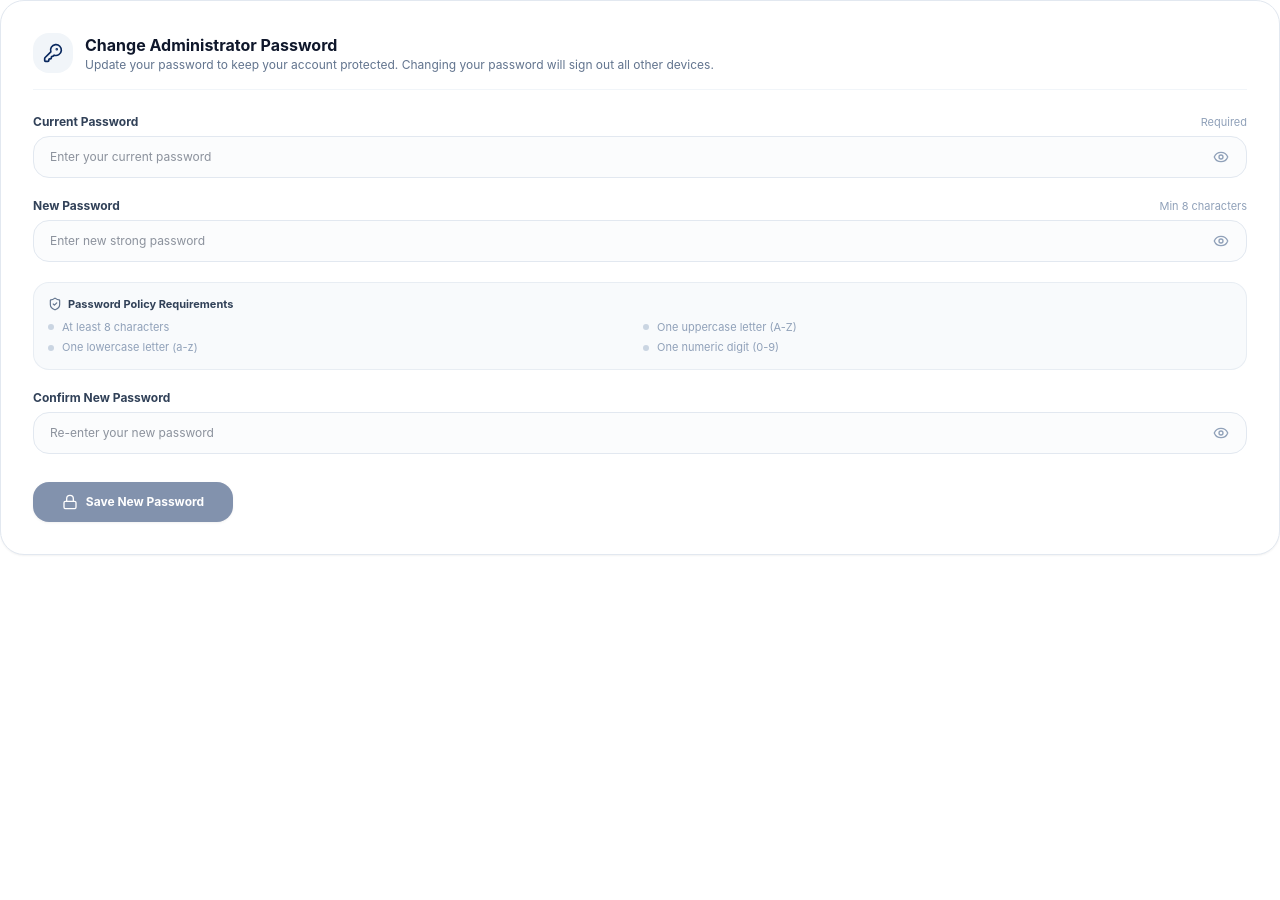
it: ChangePasswordForm Component › handles 401 session expiration error and triggers redirect
This screenshot has width=1280, height=900.
Type "OldPass123!" into the password field with placeholder "Enter your current password" at (640, 157), box [33,136,1247,178]
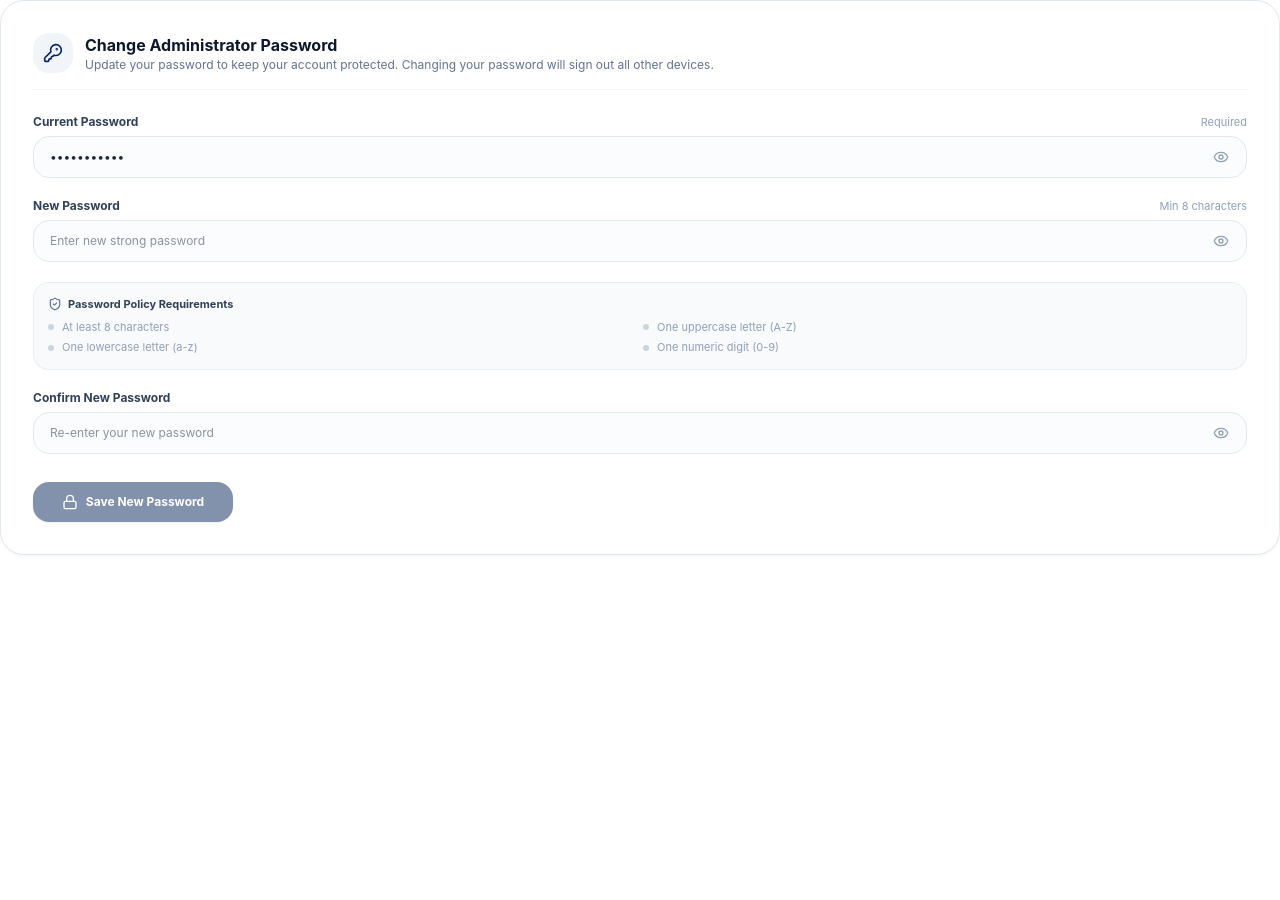
Type "NewStrongPass123!" into the password field with placeholder "Enter new strong password" at (640, 241), box [33,220,1247,262]
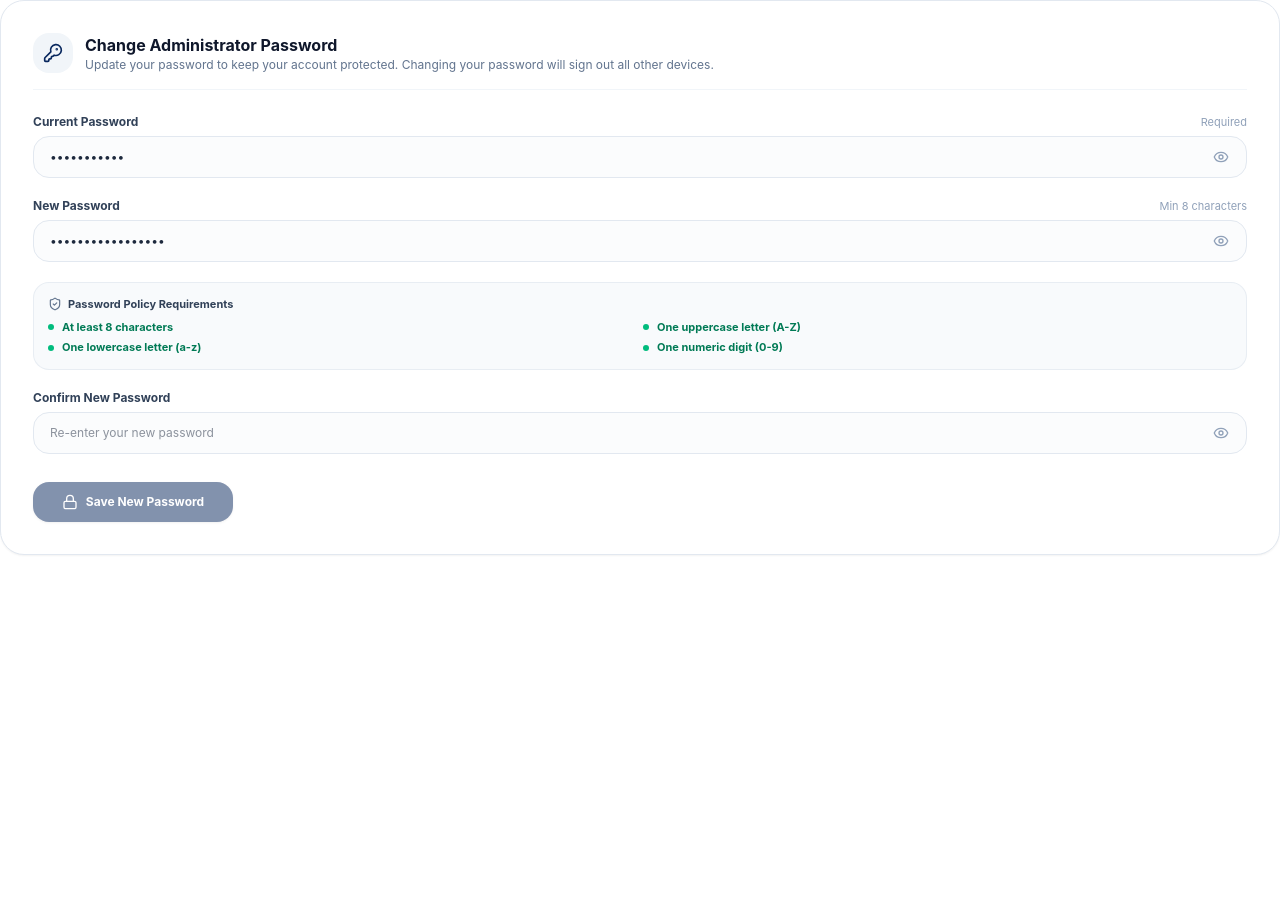
Type "NewStrongPass123!" into the password field with placeholder "Re-enter your new password" at (640, 433), box [33,412,1247,454]
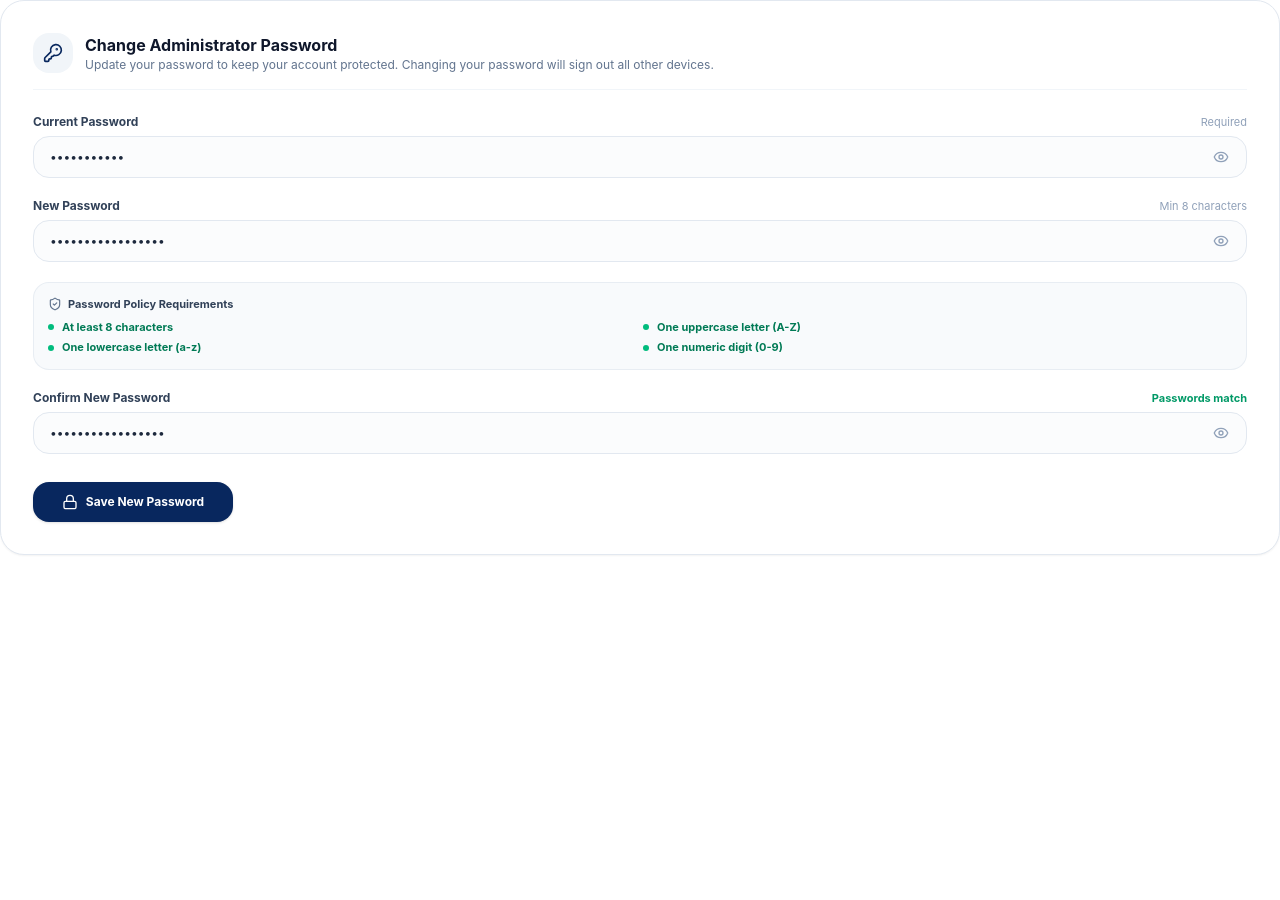
Click the button named "save new password" at (133, 502), box [33,482,233,522]
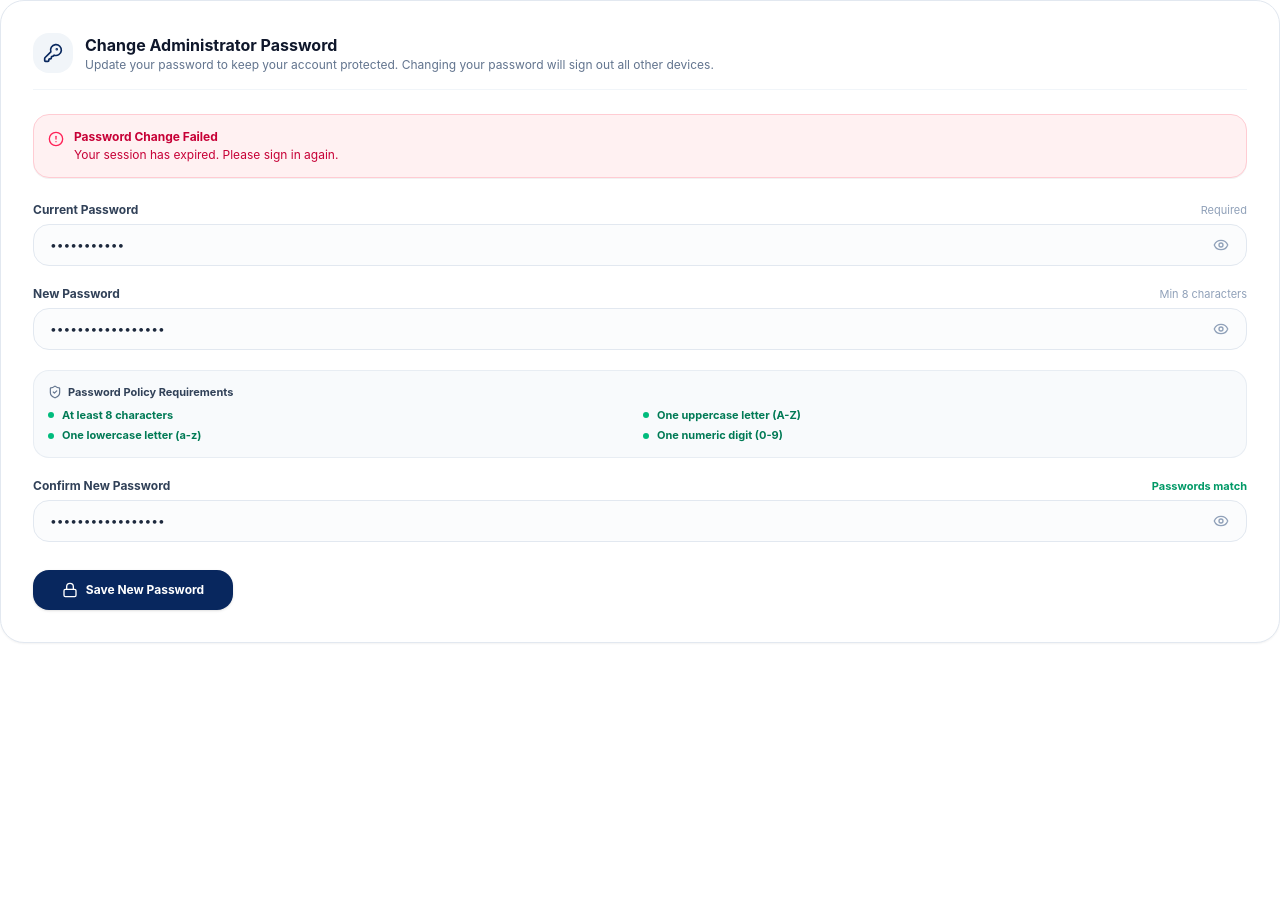
Expected: the 3rd text "Your session has expired" is shown, [74,147,338,162]
